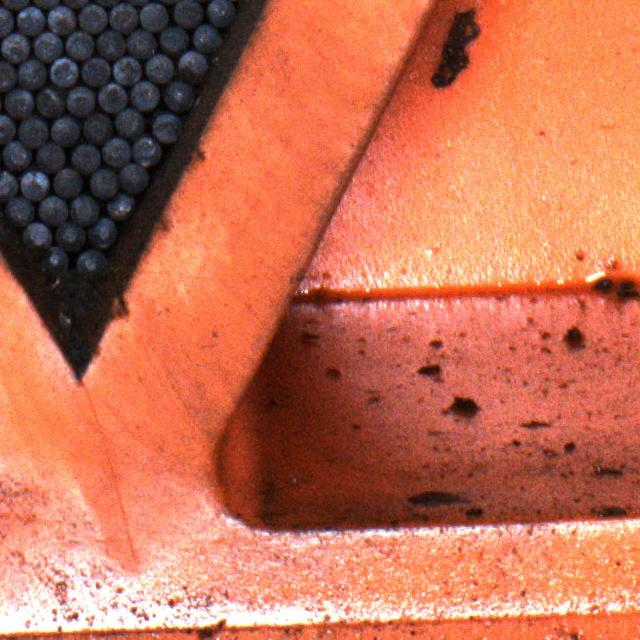tool: (176, 50, 207, 83), (70, 195, 101, 226), (87, 218, 118, 249), (115, 108, 145, 140), (132, 134, 162, 165), (50, 115, 80, 146), (117, 163, 147, 194), (20, 115, 50, 146), (55, 221, 85, 252), (163, 82, 194, 112), (20, 168, 50, 199), (129, 82, 160, 112), (82, 113, 112, 144), (74, 248, 106, 277), (125, 29, 155, 59), (78, 3, 108, 33), (5, 197, 35, 227), (53, 166, 83, 196), (70, 144, 100, 174), (150, 113, 180, 143), (39, 246, 69, 276), (22, 220, 52, 250), (32, 32, 61, 62), (109, 4, 138, 34), (110, 57, 140, 86), (49, 56, 78, 86), (90, 168, 119, 198), (37, 195, 67, 224), (36, 142, 65, 172), (145, 54, 175, 83), (65, 87, 94, 117), (159, 25, 189, 54), (81, 56, 110, 86), (101, 136, 130, 166), (193, 23, 222, 52), (64, 30, 92, 60), (47, 4, 75, 34), (96, 28, 124, 58), (0, 32, 28, 62), (4, 142, 32, 172), (97, 84, 125, 114), (104, 191, 134, 219), (4, 88, 32, 118), (37, 88, 65, 118), (139, 3, 167, 32), (18, 59, 46, 88), (16, 7, 44, 35), (173, 0, 201, 27), (206, 0, 233, 27), (0, 168, 17, 200), (0, 60, 16, 91), (0, 115, 16, 144), (0, 6, 13, 36), (0, 0, 29, 9), (32, 0, 60, 9), (61, 0, 90, 8), (90, 0, 122, 6), (122, 0, 151, 5)
